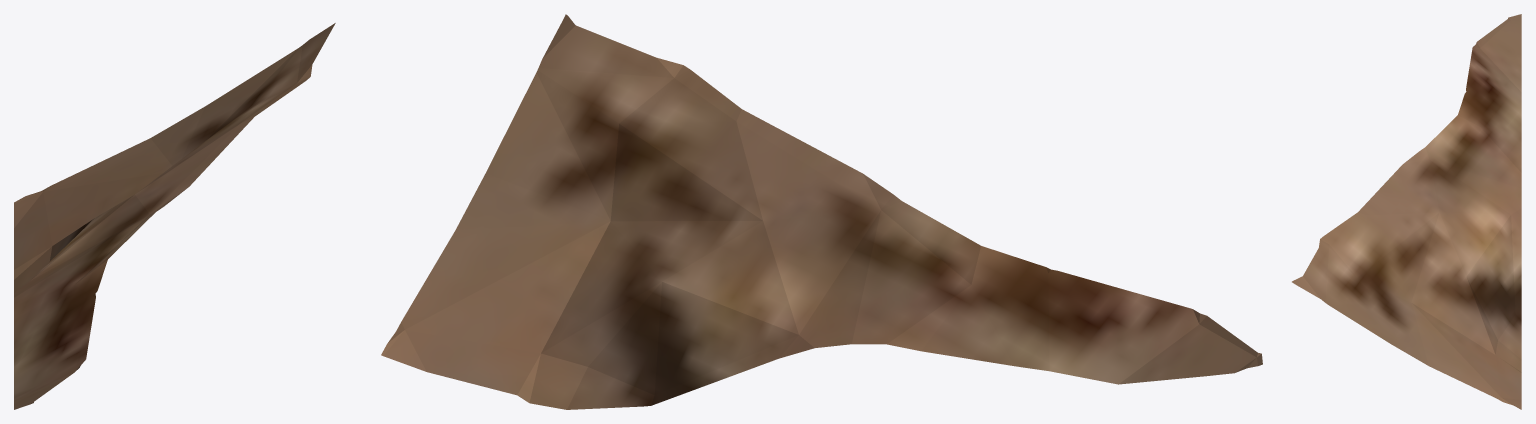
3 renders of one model, left to right at view 1: azimuth 90°, elevation 25°; view 2: azimuth 150°, elevation 25°; view 3: azimuth 270°, elevation 25°, orthographic. The views are drawn at different scales.
Size of the model in its own units: 0.1421 by 0.0335 by 0.0516.
Materials: 1 (1 with a texture image).
